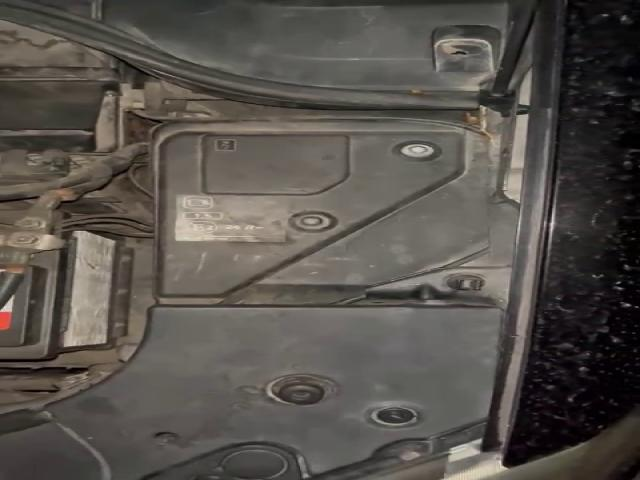accumulator: (0, 200, 127, 364)
fuse_box: (167, 130, 465, 299)
